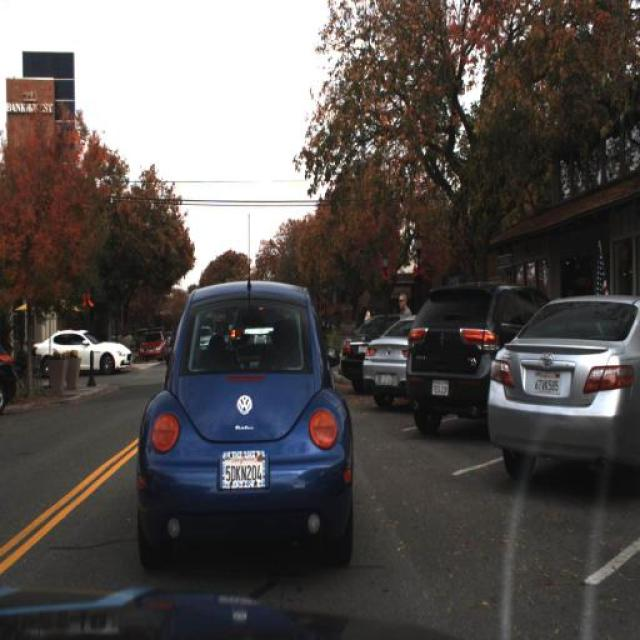car: (142, 273, 352, 557), (483, 293, 638, 485), (404, 281, 544, 433), (31, 320, 132, 378), (338, 304, 404, 386), (362, 316, 412, 406), (1, 332, 17, 407), (138, 323, 167, 361)
trafficLight: (396, 290, 416, 389)
